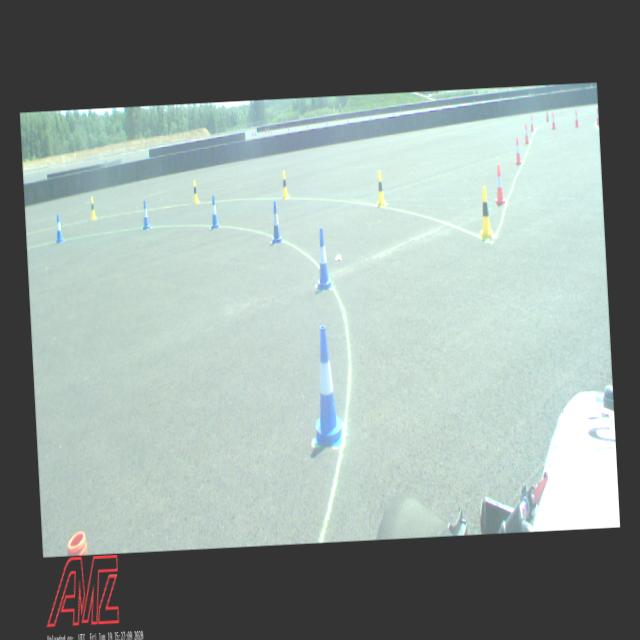blue_cone: (308, 325, 344, 447), (314, 228, 333, 290), (270, 201, 282, 243), (208, 196, 220, 230), (54, 214, 64, 242), (142, 200, 150, 230)
orange_cone: (494, 165, 506, 205), (514, 136, 522, 166), (524, 124, 530, 144), (574, 110, 580, 127), (594, 108, 598, 125), (552, 112, 556, 128), (530, 115, 534, 131)
yellow_cone: (478, 185, 493, 239), (374, 170, 386, 206), (282, 170, 288, 198), (90, 196, 97, 219), (192, 180, 199, 203)
